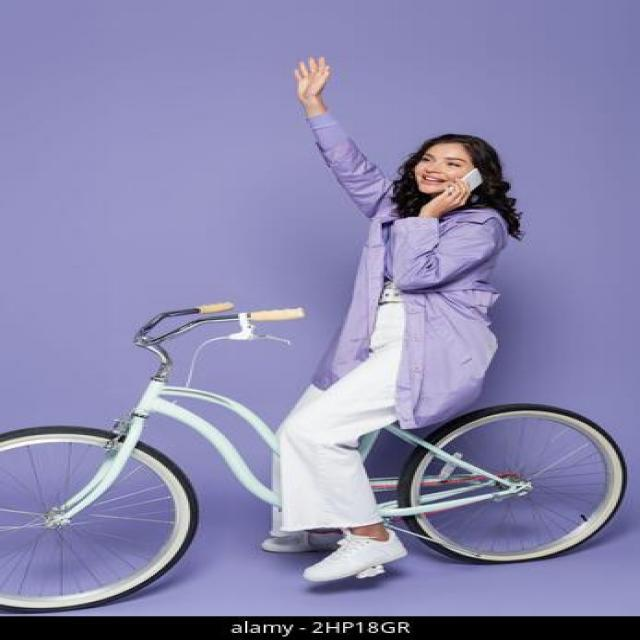Using mobile: (361, 100, 520, 256)
